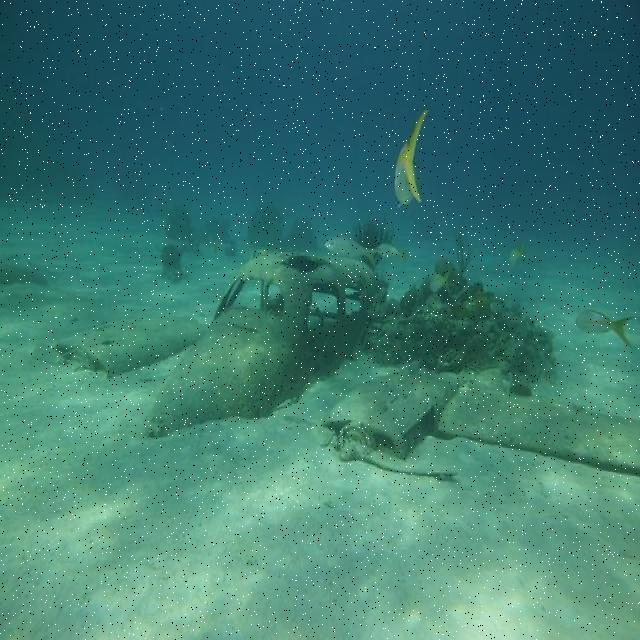fish: (396, 108, 429, 206), (577, 311, 637, 349), (324, 237, 385, 267), (376, 243, 402, 256)
sea-floor: (364, 259, 555, 395)
wrecks-ruins: (148, 251, 386, 435), (321, 368, 639, 476), (55, 313, 212, 374)
